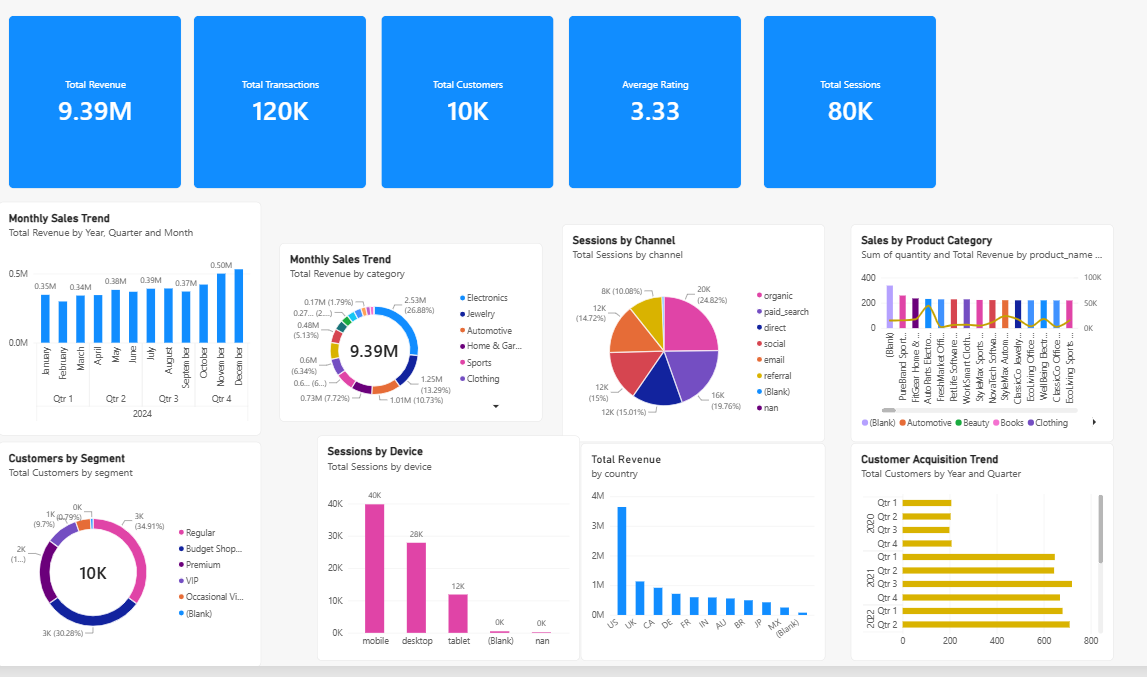

This screenshot's page, from the dashboard's own definition file:
{"tool":"powerbi","page":{"name":"E-Commerce Overview","canvas":[1920,1080],"ordinal":0},"visuals":[{"type":"cardVisual","fields":{"Data":["dim_customers.Total Revenue"]},"box":[33.6,29.2,280,280],"z":0},{"type":"cardVisual","fields":{"Data":["dim_customers.Total Customers"]},"box":[636.1,29.2,280,280],"z":1000},{"type":"cardVisual","fields":{"Data":["dim_customers.Total Transactions"]},"box":[332.6,29.2,280,280],"z":2000},{"type":"cardVisual","fields":{"Data":["dim_customers.Total Sessions"]},"box":[1254.7,29.2,280,280],"z":3000},{"type":"cardVisual","fields":{"Data":["dim_customers.Average Rating"]},"box":[939.6,29.2,280,280],"z":4000},{"type":"clusteredColumnChart","title":"Monthly Sales Trend","fields":{"Category":["fact_sales.transaction_date.Variation.Date Hierarchy.Year","fact_sales.transaction_date.Variation.Date Hierarchy.Quarter","fact_sales.transaction_date.Variation.Date Hierarchy.Month","fact_sales.transaction_date.Variation.Date Hierarchy.Day"],"Y":["dim_customers.Total Revenue"]},"box":[17.5,328.3,424.6,377.9],"z":5000},{"type":"donutChart","title":"Monthly Sales Trend","fields":{"Category":["dim_products.category"],"Y":["dim_customers.Total Revenue"]},"box":[472.7,395.4,424.6,288.9],"z":6000},{"type":"pieChart","title":"Sessions by Channel","fields":{"Category":["fact_sessions.channel"],"Y":["dim_customers.Total Sessions"]},"box":[929.4,366.2,425,352],"z":7000},{"type":"lineStackedColumnComboChart","title":"Sales by Product Category","fields":{"Category":["dim_products.product_name"],"Series":["dim_products.category"],"Y":["Sum(fact_sales.quantity)"],"Y2":["dim_customers.Total Revenue"]},"box":[1394.8,366.2,425,352],"z":8000},{"type":"donutChart","title":"Customers by Segment","fields":{"Category":["dim_customers.segment"],"Y":["dim_customers.Total Customers"]},"box":[18,716,425,364],"z":8001},{"type":"clusteredColumnChart","title":"Sessions by Device","fields":{"Category":["fact_sessions.device"],"Y":["dim_customers.Total Sessions"]},"box":[534,706.1,425,364],"z":8002},{"type":"clusteredColumnChart","fields":{"Category":["dim_customers.country"],"Y":["dim_customers.Total Revenue"]},"box":[959,718,395,352],"z":8003},{"type":"clusteredBarChart","title":"Customer Acquisition Trend","fields":{"Y":["dim_customers.Total Customers"],"Category":["dim_customers.signup_date.Variation.Date Hierarchy.Year","dim_customers.signup_date.Variation.Date Hierarchy.Quarter","dim_customers.signup_date.Variation.Date Hierarchy.Month","dim_customers.signup_date.Variation.Date Hierarchy.Day"]},"box":[1395,718,425,352],"z":8004}]}

Visuals, with their boxes on the page's 1920x1080 design canvas (x1, y1, x2, y2). These are canvas units, not pixel positions in the 1147x677 screenshot, which may show the page scaled, cropped or inside an application window:
cardVisual - dim_customers.Total Revenue: locate(34, 29, 314, 309)
cardVisual - dim_customers.Total Customers: locate(636, 29, 916, 309)
cardVisual - dim_customers.Total Transactions: locate(333, 29, 613, 309)
cardVisual - dim_customers.Total Sessions: locate(1255, 29, 1535, 309)
cardVisual - dim_customers.Average Rating: locate(940, 29, 1220, 309)
"Monthly Sales Trend" clusteredColumnChart: locate(18, 328, 442, 706)
"Monthly Sales Trend" donutChart: locate(473, 395, 897, 684)
"Sessions by Channel" pieChart: locate(929, 366, 1354, 718)
"Sales by Product Category" lineStackedColumnComboChart: locate(1395, 366, 1820, 718)
"Customers by Segment" donutChart: locate(18, 716, 443, 1080)
"Sessions by Device" clusteredColumnChart: locate(534, 706, 959, 1070)
clusteredColumnChart - dim_customers.country x dim_customers.Total Revenue: locate(959, 718, 1354, 1070)
"Customer Acquisition Trend" clusteredBarChart: locate(1395, 718, 1820, 1070)
